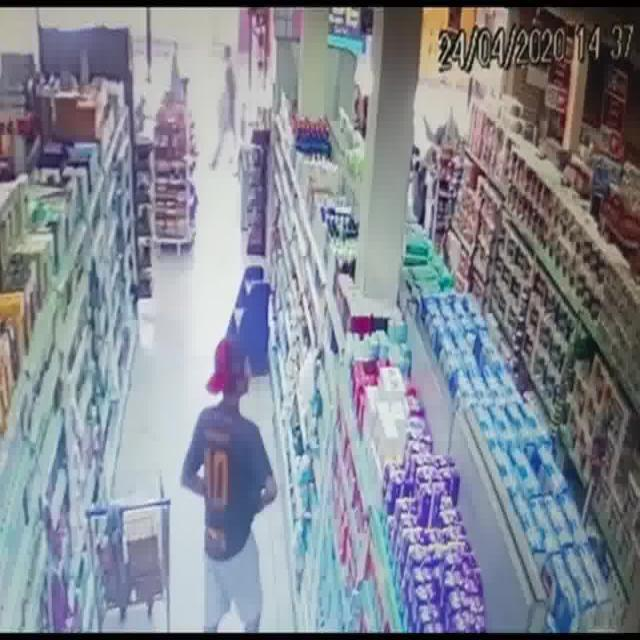persone: (182, 338, 276, 628)
